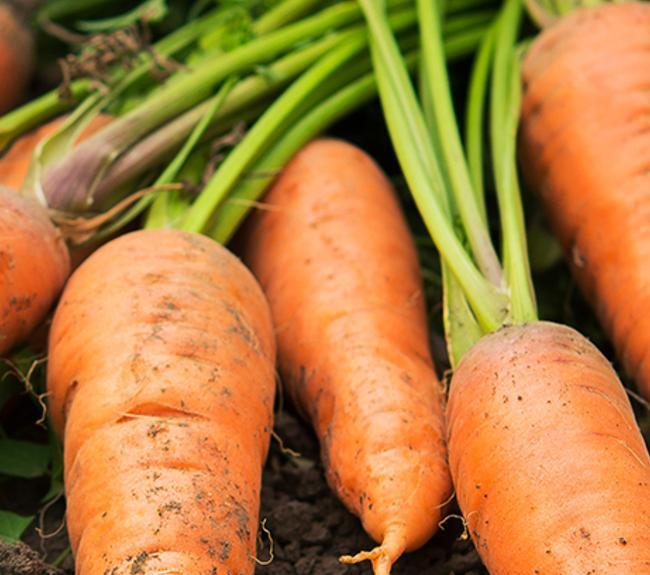carrot: (19, 110, 650, 575), (0, 175, 275, 575), (224, 109, 448, 575), (364, 285, 650, 575), (490, 28, 650, 363)
